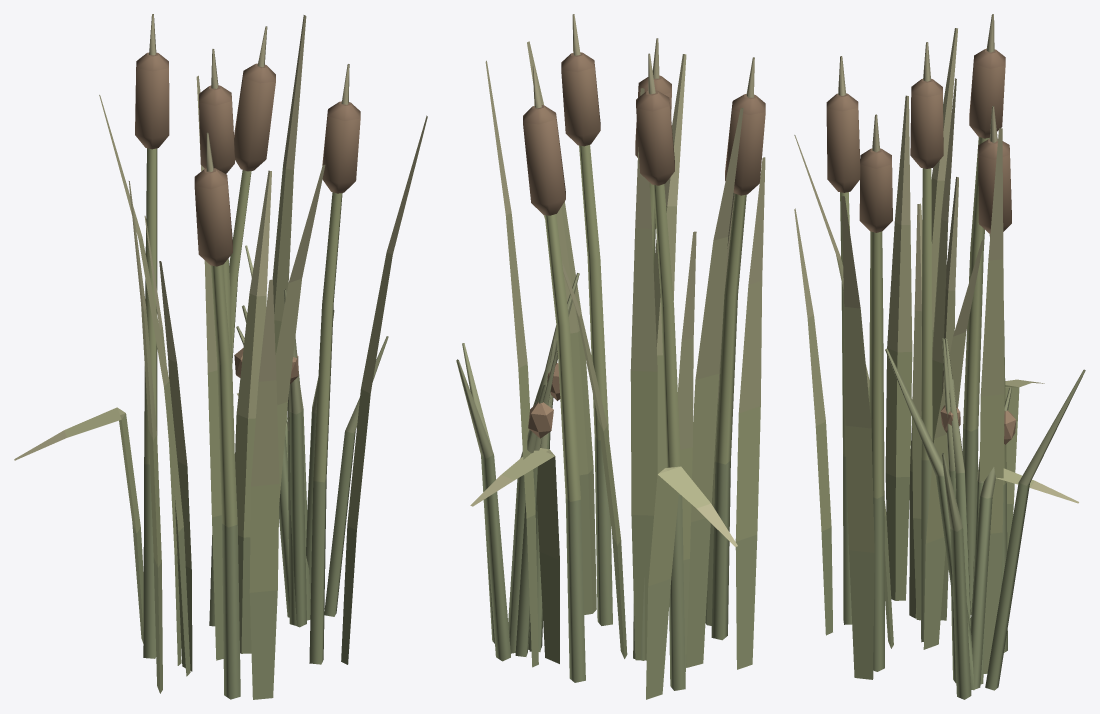
The model's file is ReedClump1_leaf.glb.
3 views of the same model, side by side, from view 1: azimuth 30°, elevation 25°; view 2: azimuth 150°, elevation 25°; view 3: azimuth 270°, elevation 25° (orthographic). The views are drawn at different scales.
Visible parts, largest first — view 1: ReedClump1_leaf; view 2: ReedClump1_leaf; view 3: ReedClump1_leaf.
Part boxes in pixels (x1,y1,x2,y2): ReedClump1_leaf: (14, 14, 427, 699); ReedClump1_leaf: (456, 14, 765, 699); ReedClump1_leaf: (794, 14, 1085, 699).
Size of the model in its own units: 3.94 by 7.34 by 3.2.
